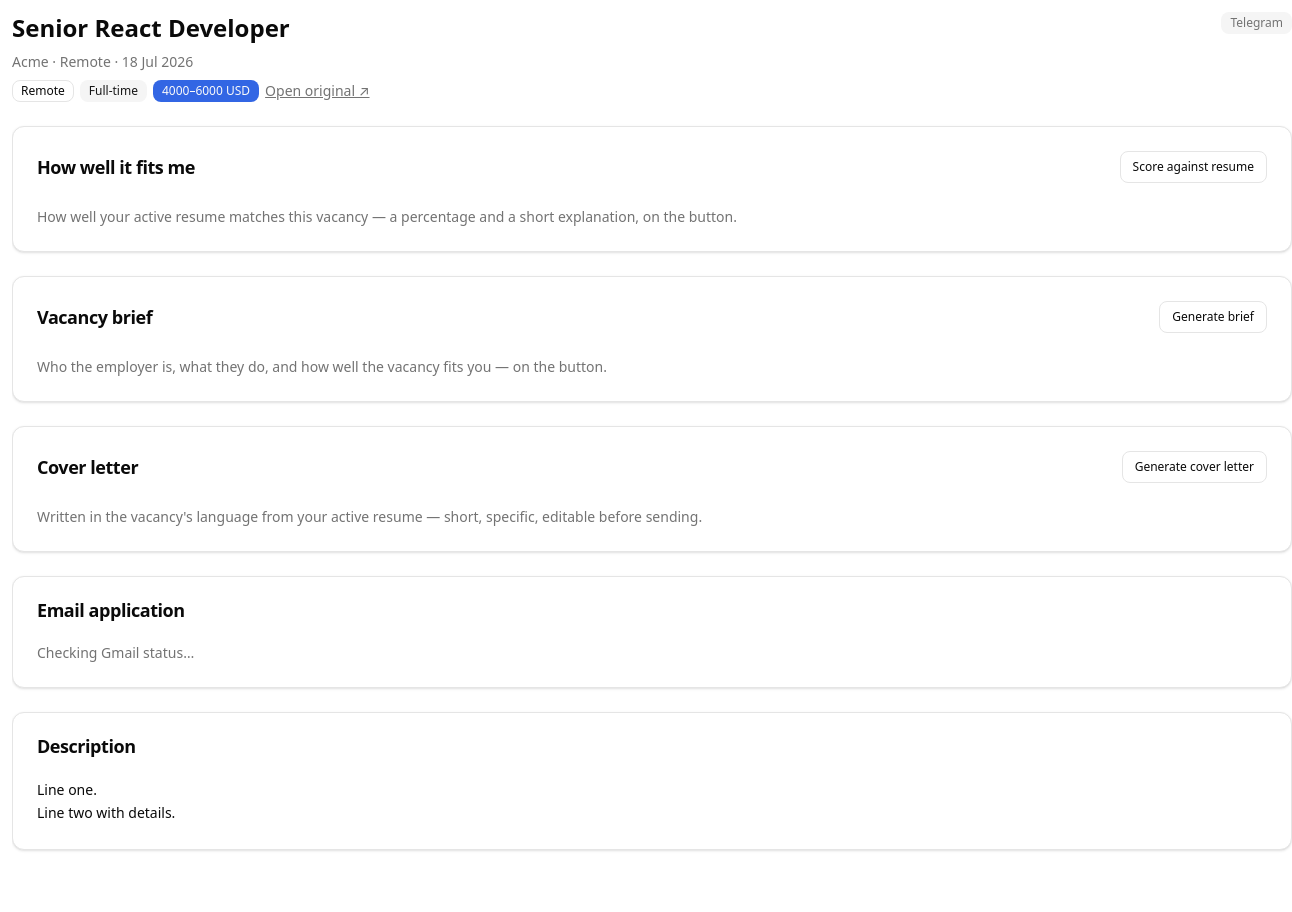
Test case: VacancyDetailView › renders the per-criterion breakdown returned by the API
The width and height of the screenshot is (1292, 912).
Click the button "Score against resume" at (1193, 167), box [1120,151,1267,183]
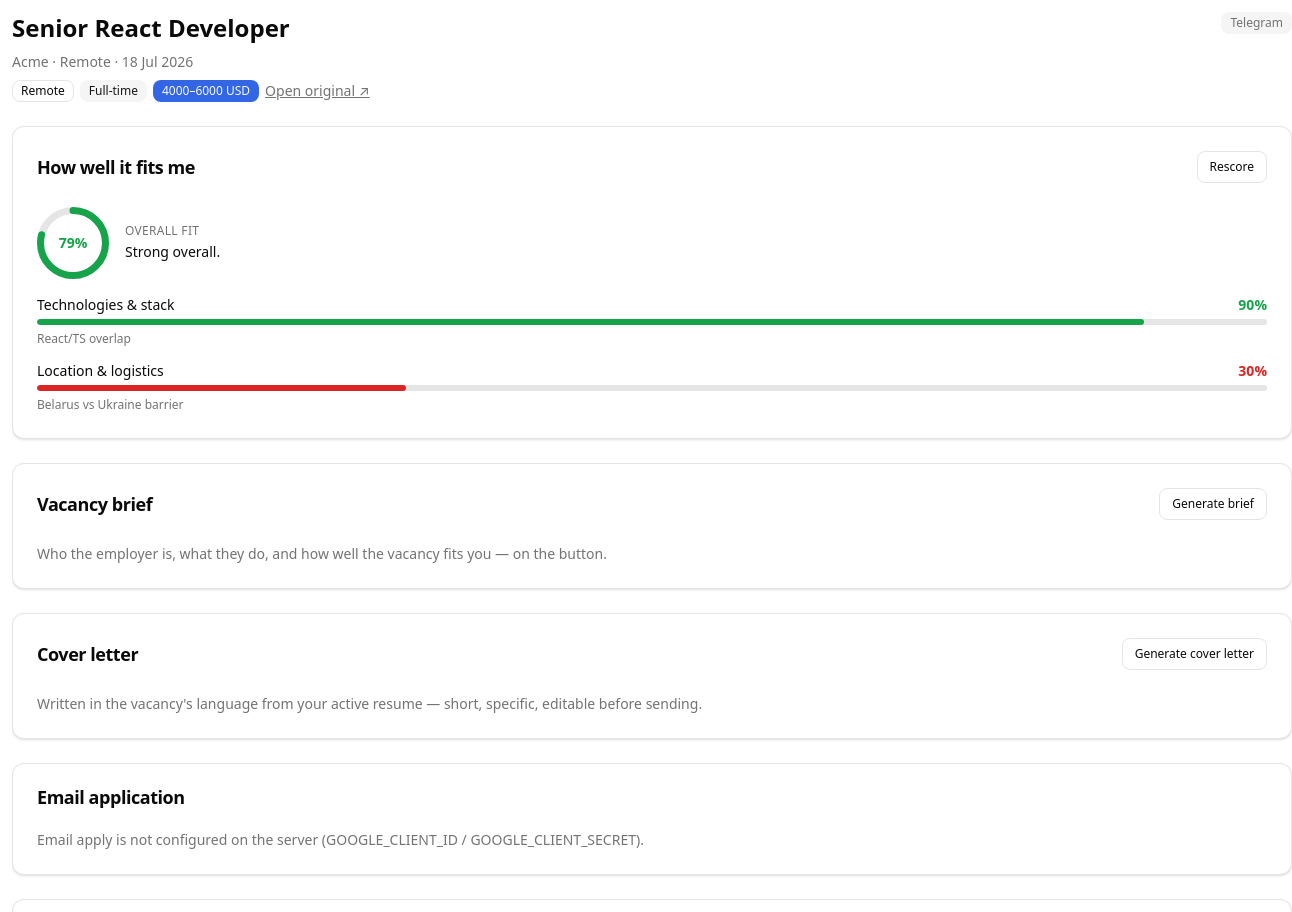
Expected: the text "Technologies & stack" is shown, [37,295,174,315]
Expected: the text "Location & logistics" is shown, [37,360,164,380]
Expected: the text "90%" is shown, [1238,295,1267,315]
